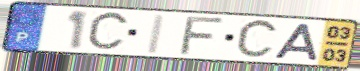1: (65, 9, 89, 51)
A: (271, 22, 321, 62)
C: (84, 10, 132, 54), (233, 17, 281, 61)
F: (177, 16, 229, 57)
I: (144, 13, 169, 56)
